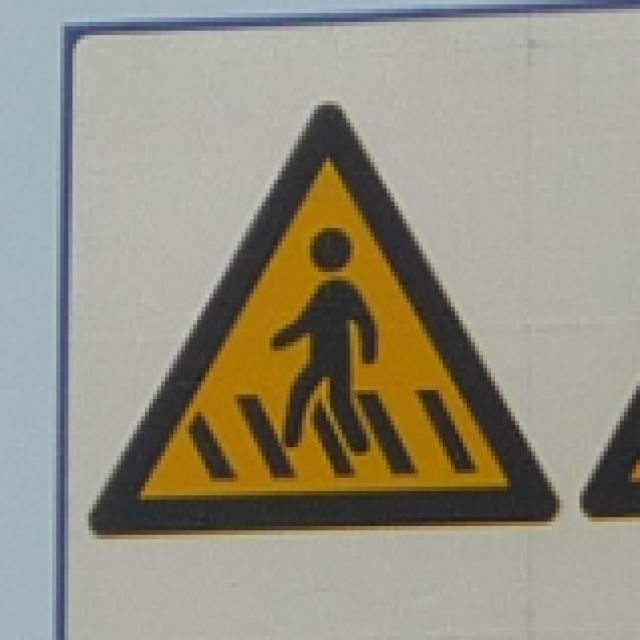Crossing: (87, 85, 572, 558)
